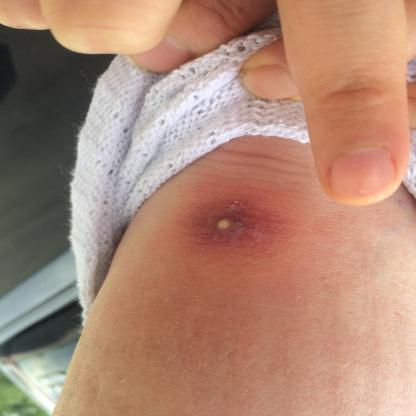Fire ant: (200, 203, 254, 245)
